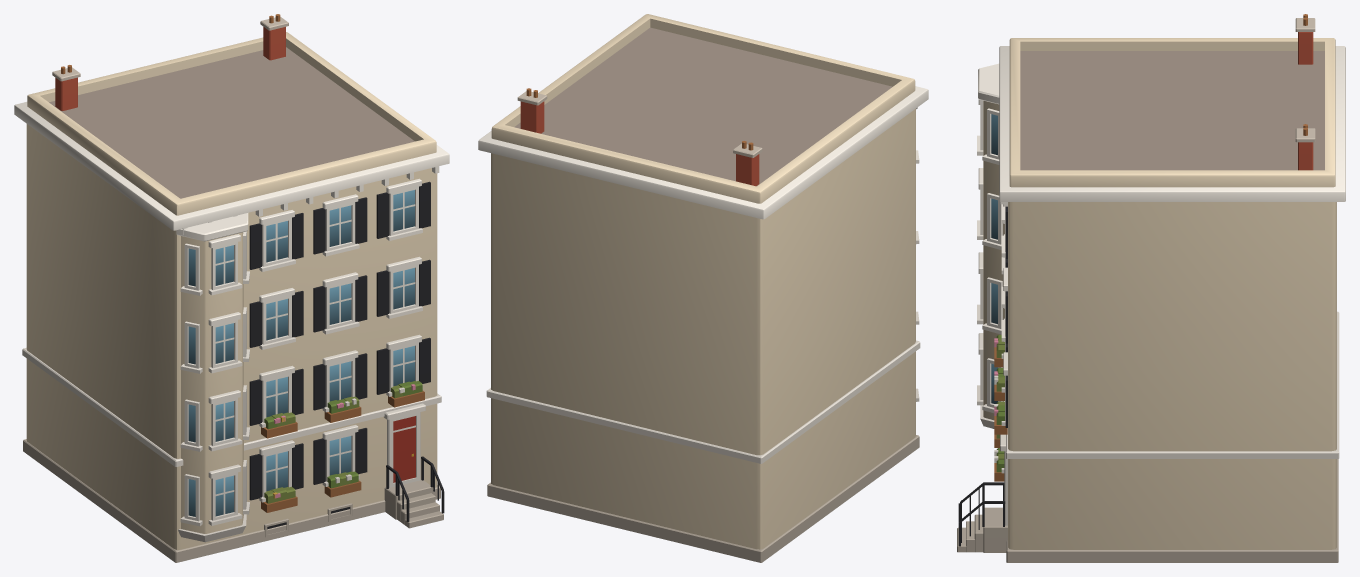
The model's file is tremont_n5.glb.
3 views of the same model, side by side, from view 1: azimuth 30°, elevation 25°; view 2: azimuth 150°, elevation 25°; view 3: azimuth 270°, elevation 25° (orthographic). The views are drawn at different scales.
Visible parts, largest first — view 1: tremont_n5; view 2: tremont_n5; view 3: tremont_n5.
Boxes of the visible parts, bbox=[...] form: tremont_n5: bbox=[14, 14, 449, 562]; tremont_n5: bbox=[478, 14, 928, 562]; tremont_n5: bbox=[957, 14, 1345, 562].
Bounding box in the file's own units: 12.64 × 16.94 × 14.18.
1 material, 1 textured.
